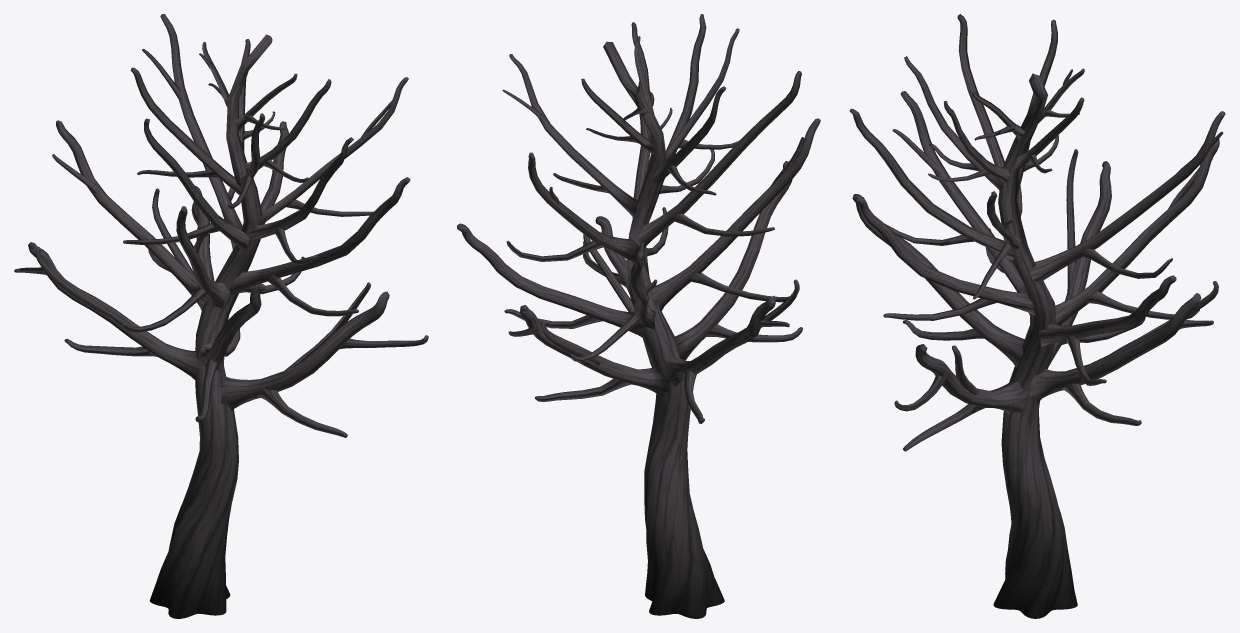
Rendered from deserto.glb.
3 views of the same model, side by side, from view 1: azimuth 30°, elevation 25°; view 2: azimuth 150°, elevation 25°; view 3: azimuth 270°, elevation 25° (orthographic). The views are drawn at different scales.
Parts seen in each view (by area): view 1: DeadTree_1; view 2: DeadTree_1; view 3: DeadTree_1.
Part boxes in pixels (x1,y1,x2,y2): DeadTree_1: (14, 14, 428, 618); DeadTree_1: (457, 14, 820, 618); DeadTree_1: (849, 14, 1225, 618).
Size of the model in its own units: 6.15 by 9.5 by 5.75.
1 material, 1 textured.
